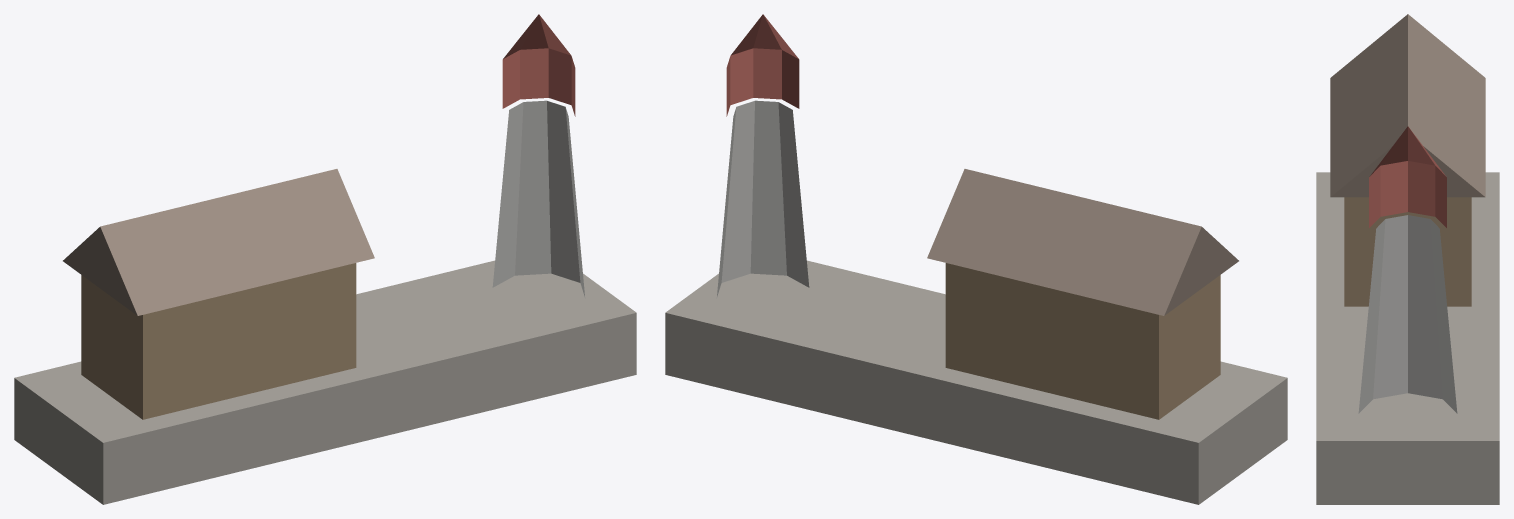
Rendered from landmark_harbor_pier.glb.
3 renders of one model, left to right at view 1: azimuth 30°, elevation 25°; view 2: azimuth 150°, elevation 25°; view 3: azimuth 270°, elevation 25°, orthographic. The views are drawn at different scales.
Bounding box in the file's own units: 1.8 × 1.1 × 0.52.
